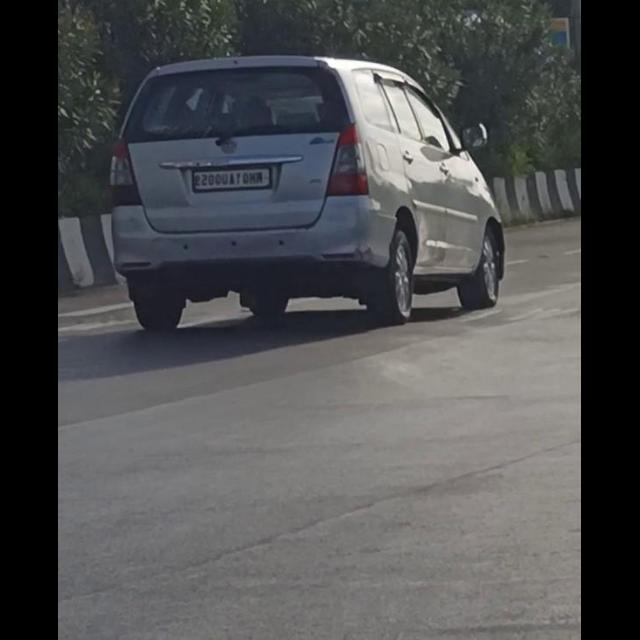vehicles: (121, 52, 521, 328)
